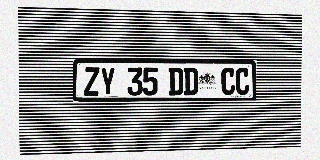3: (127, 67, 142, 96)
5: (143, 67, 158, 96)
C: (221, 68, 235, 95), (235, 68, 249, 95)
D: (168, 68, 183, 95), (183, 68, 198, 95)
Y: (100, 67, 115, 96)
Z: (84, 67, 99, 96)
